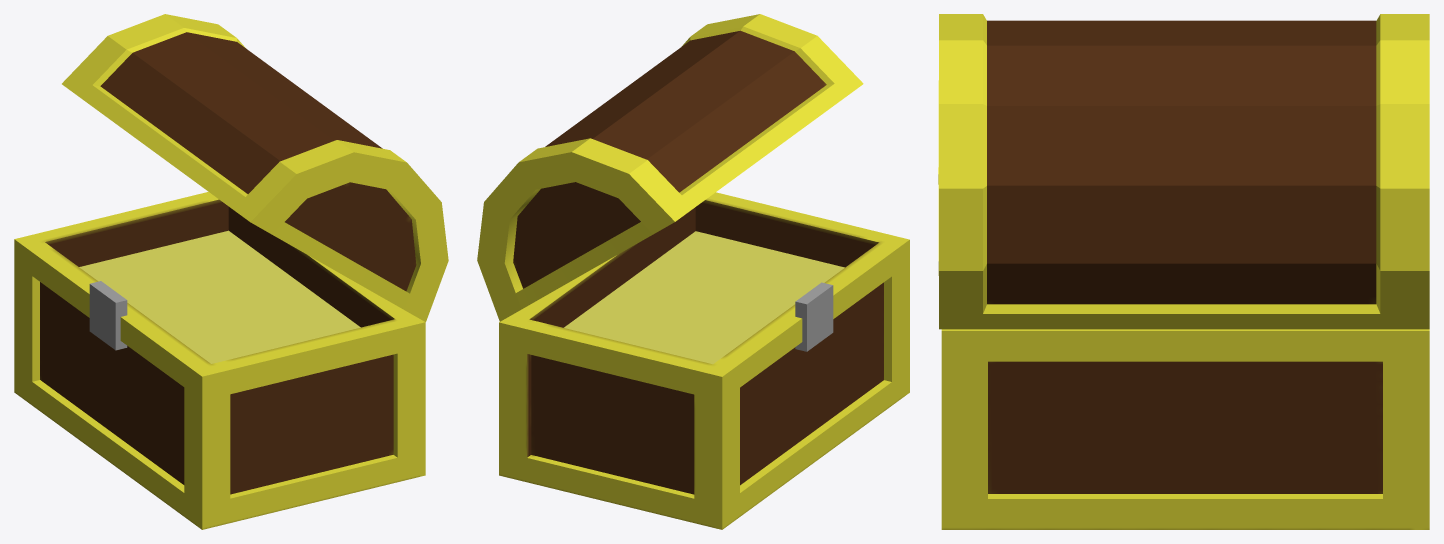
The model's file is Chest Full 1.fbx.
3 renders of one model, left to right at view 1: azimuth 30°, elevation 25°; view 2: azimuth 150°, elevation 25°; view 3: azimuth 270°, elevation 25°, orthographic. The views are drawn at different scales.
Visible parts, largest first — view 1: ChestFull_1; view 2: ChestFull_1; view 3: ChestFull_1.
Part boxes in pixels (box(x1,y1,x2,y2)): ChestFull_1: box(14, 14, 448, 529); ChestFull_1: box(477, 14, 909, 529); ChestFull_1: box(938, 14, 1429, 529).
Size of the model in its own units: 112 by 146 by 146.
1 material, 1 textured.
